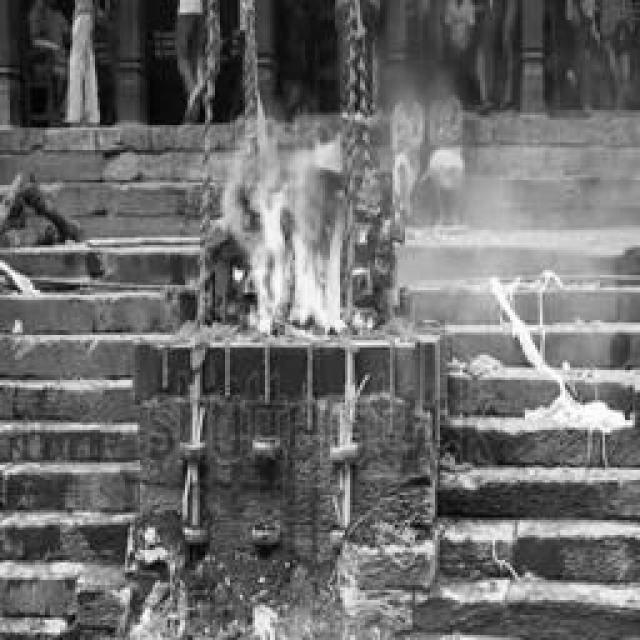Fire: (246, 130, 347, 338)
